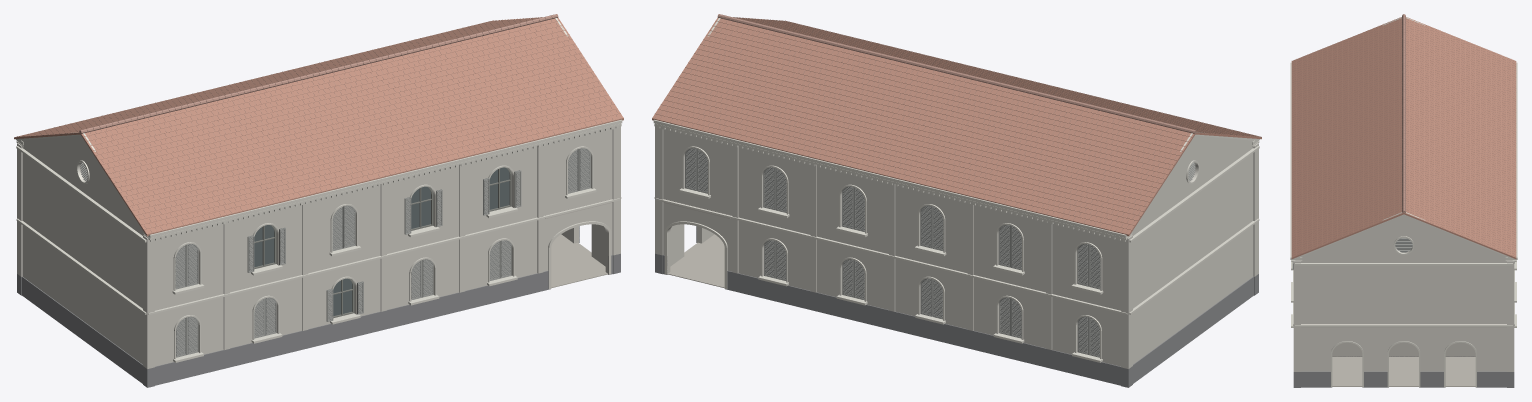
The model's file is xuhui-zikawei-north-library-raw.glb.
3 renders of one model, left to right at view 1: azimuth 30°, elevation 25°; view 2: azimuth 150°, elevation 25°; view 3: azimuth 270°, elevation 25°, orthographic. The views are drawn at different scales.
Visible parts, largest first — view 1: 徐家汇藏书楼北楼（原藏书楼）; view 2: 徐家汇藏书楼北楼（原藏书楼）; view 3: 徐家汇藏书楼北楼（原藏书楼）.
Part boxes in pixels (x1,y1,x2,y2): 徐家汇藏书楼北楼（原藏书楼）: (14, 14, 623, 387); 徐家汇藏书楼北楼（原藏书楼）: (652, 14, 1261, 387); 徐家汇藏书楼北楼（原藏书楼）: (1290, 14, 1517, 387).
Bounding box in the file's own units: 28.46 × 11.99 × 13.91.
